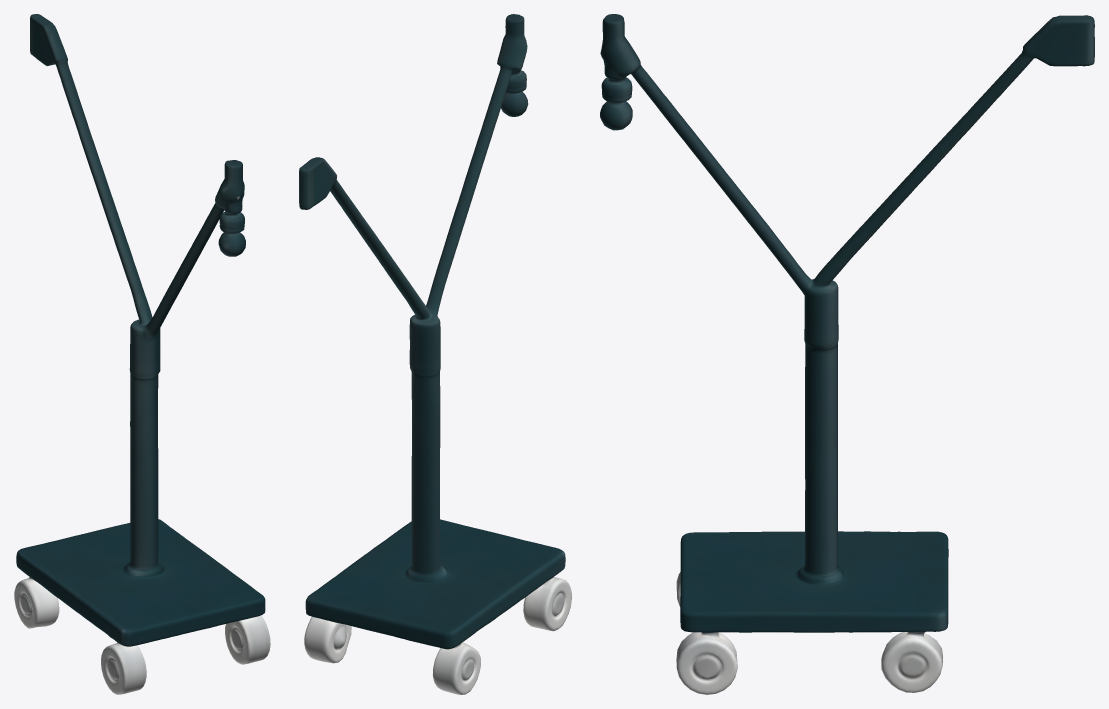
Rendered from text_attempt.glb.
The picture shows the model from 3 angles, left to right: view 1: azimuth 30°, elevation 25°; view 2: azimuth 150°, elevation 25°; view 3: azimuth 270°, elevation 25°; orthographic projection. The views are drawn at different scales.
Visible parts, largest first — view 1: model; view 2: model; view 3: model.
Boxes of the visible parts, x1,y1,x2,y2 form: model: (14, 14, 270, 694); model: (299, 14, 571, 694); model: (600, 14, 1094, 694).
Bounding box in the file's own units: 0.545 × 1.9 × 1.33.
Materials: 1 (1 with a texture image).
